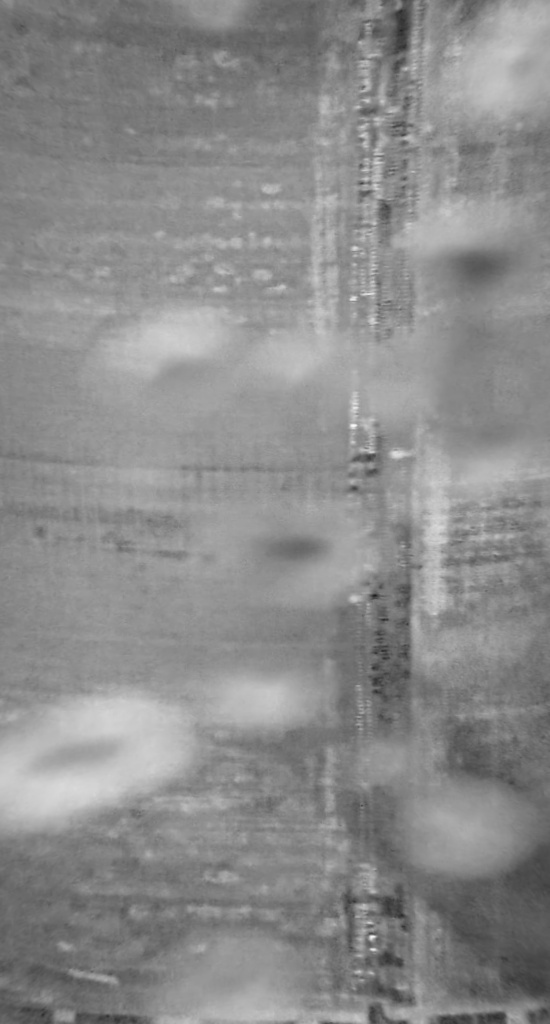splice: (336, 1, 433, 1021)
